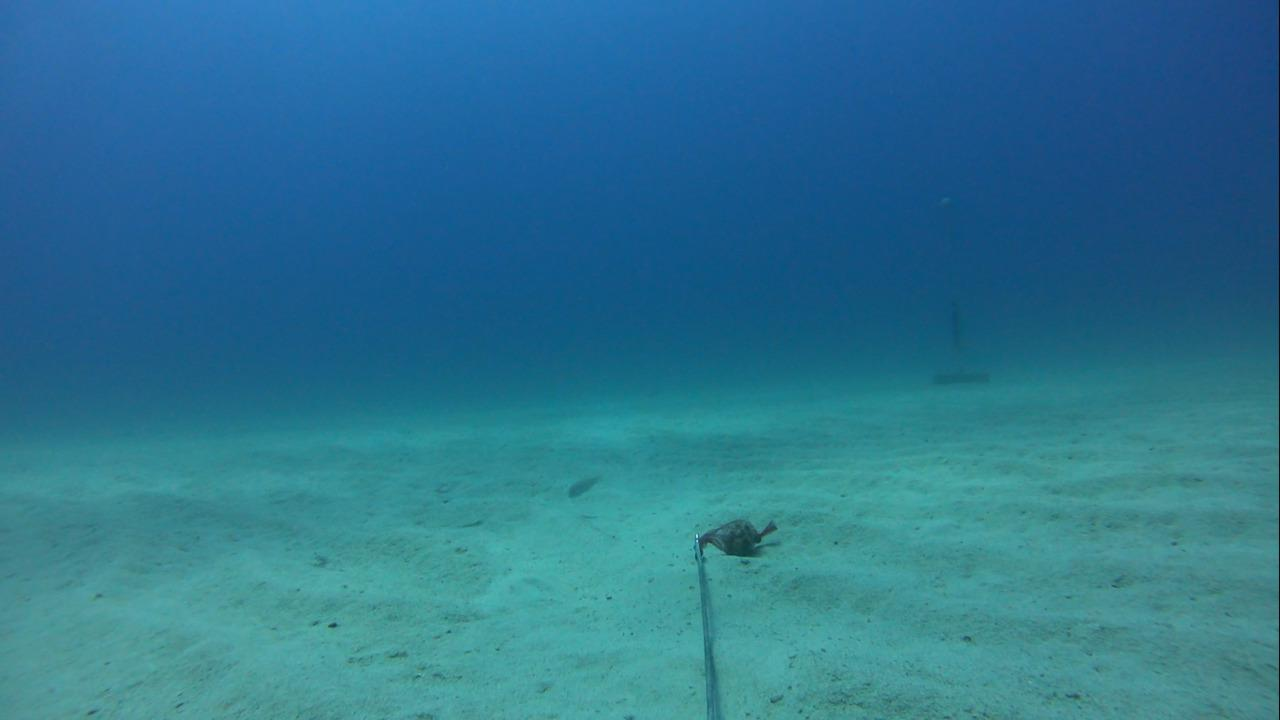raor: (556, 464, 606, 503)
